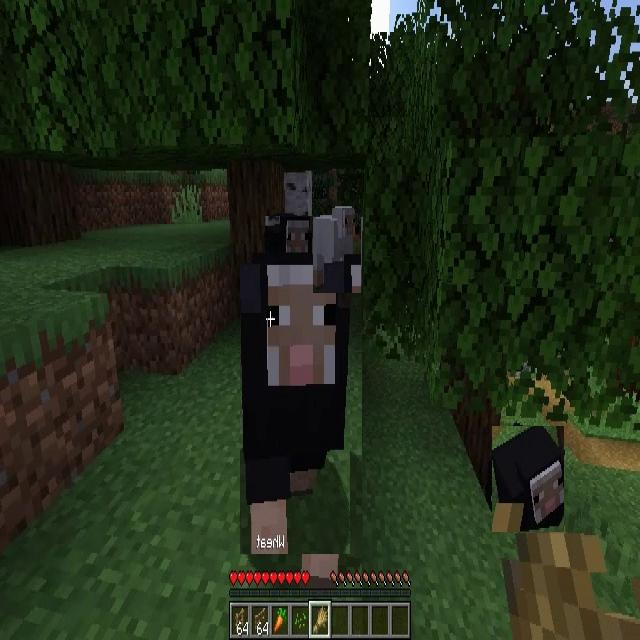sheep: (240, 264, 350, 554), (492, 426, 564, 532), (313, 206, 361, 293), (265, 216, 312, 265)
